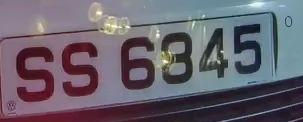4: (194, 22, 233, 86)
5: (228, 18, 266, 83)
6: (116, 30, 159, 96)
8: (157, 23, 197, 92)
S: (11, 34, 60, 111), (56, 33, 106, 104)
